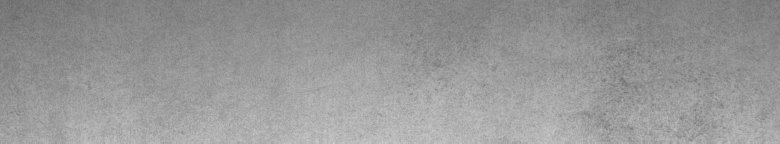ib: (580, 45, 728, 132)
